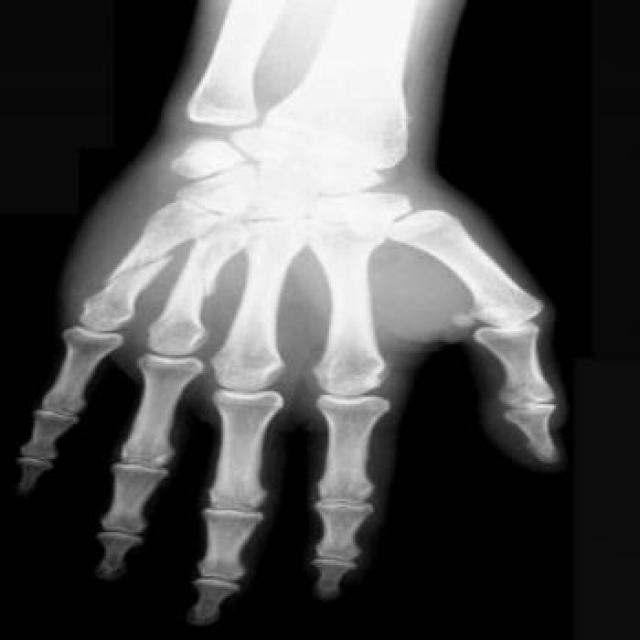Fracture: (78, 245, 174, 288)
